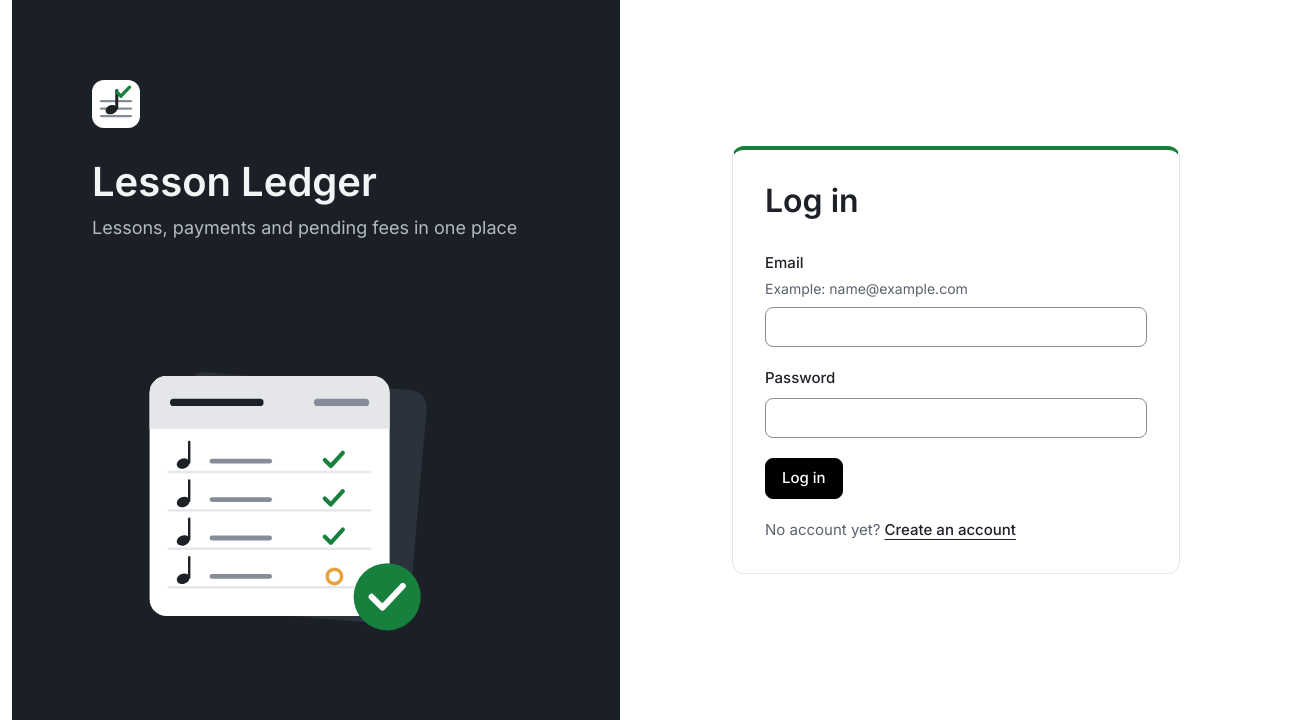
Scenario: AC-2 login page › logs in and lands on / showing the email
The image size is (1292, 720).
Check: the heading "Log in" is shown, box [765,181,859,220]
Step 1. Type "ALICE@example.com" into the field labelled "Email" → (956, 327), box [765,307,1147,347]
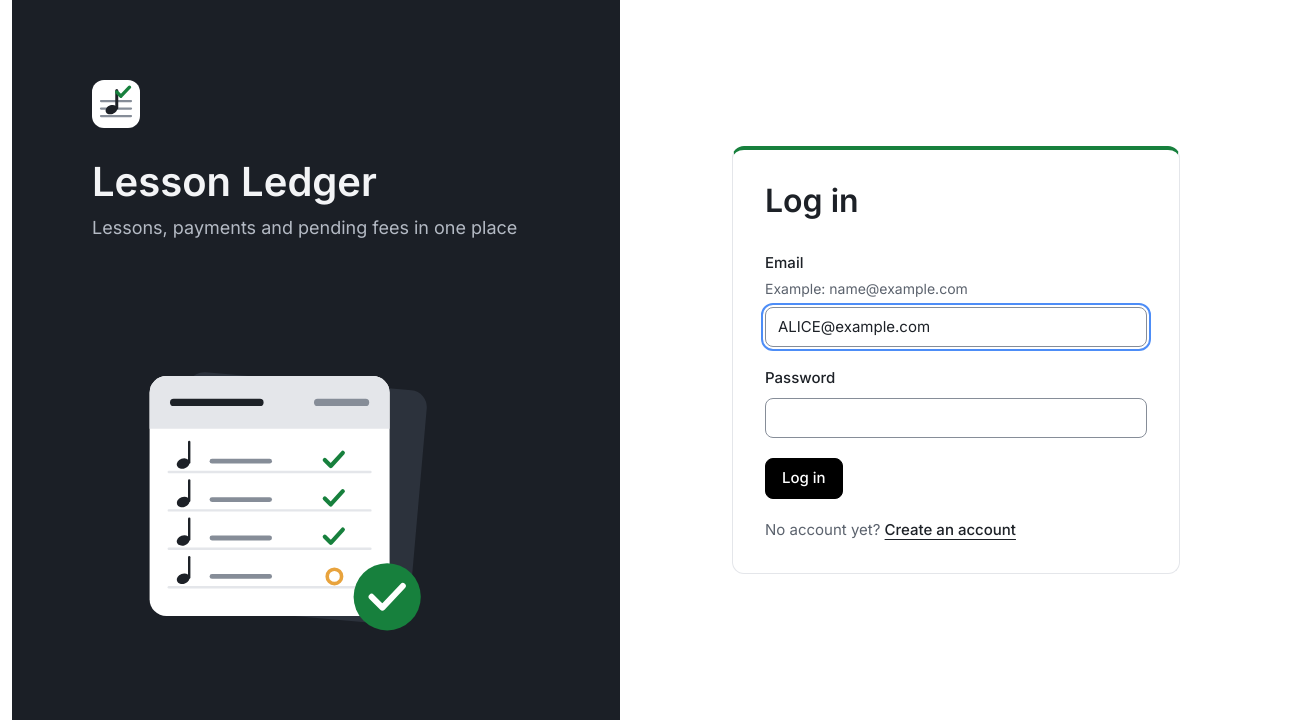
Step 2. Type "alice-ledger-pass" into the password field labelled "Password" → (956, 418), box [765,398,1147,438]
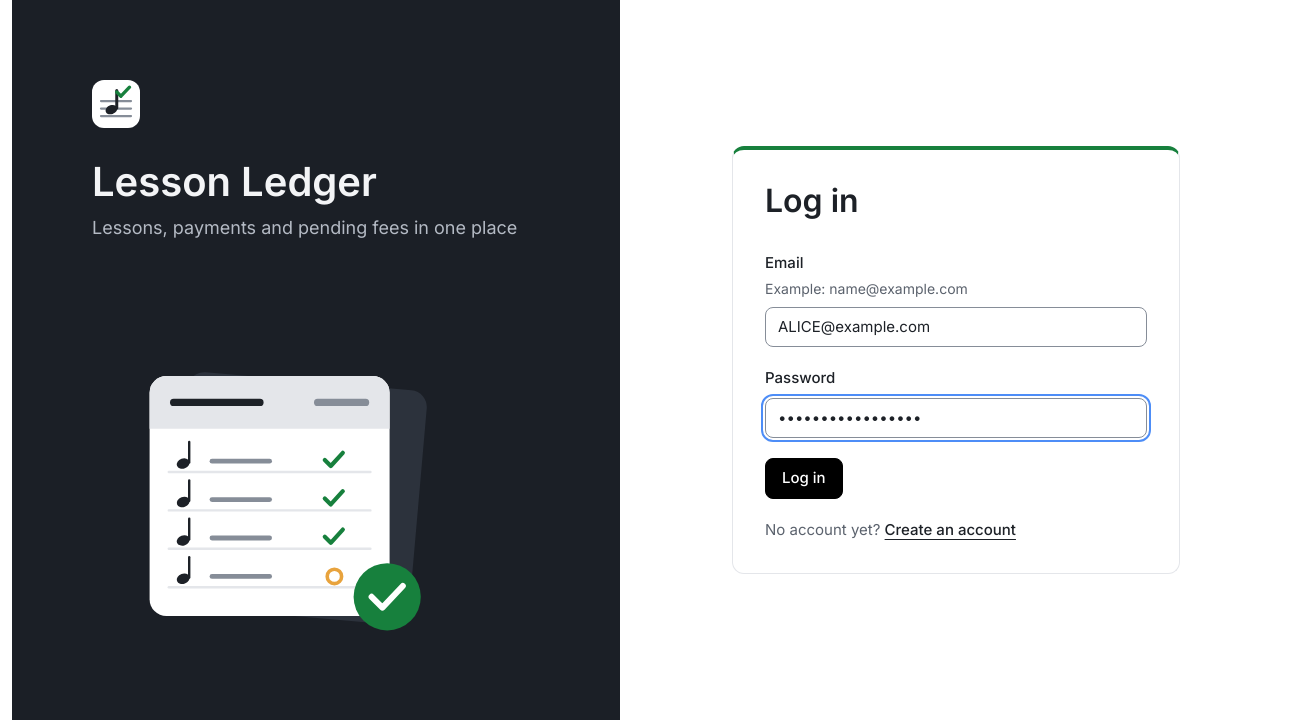
Step 3. Click the button "Log in" → (804, 479), box [765,458,843,499]
(page scrolled)
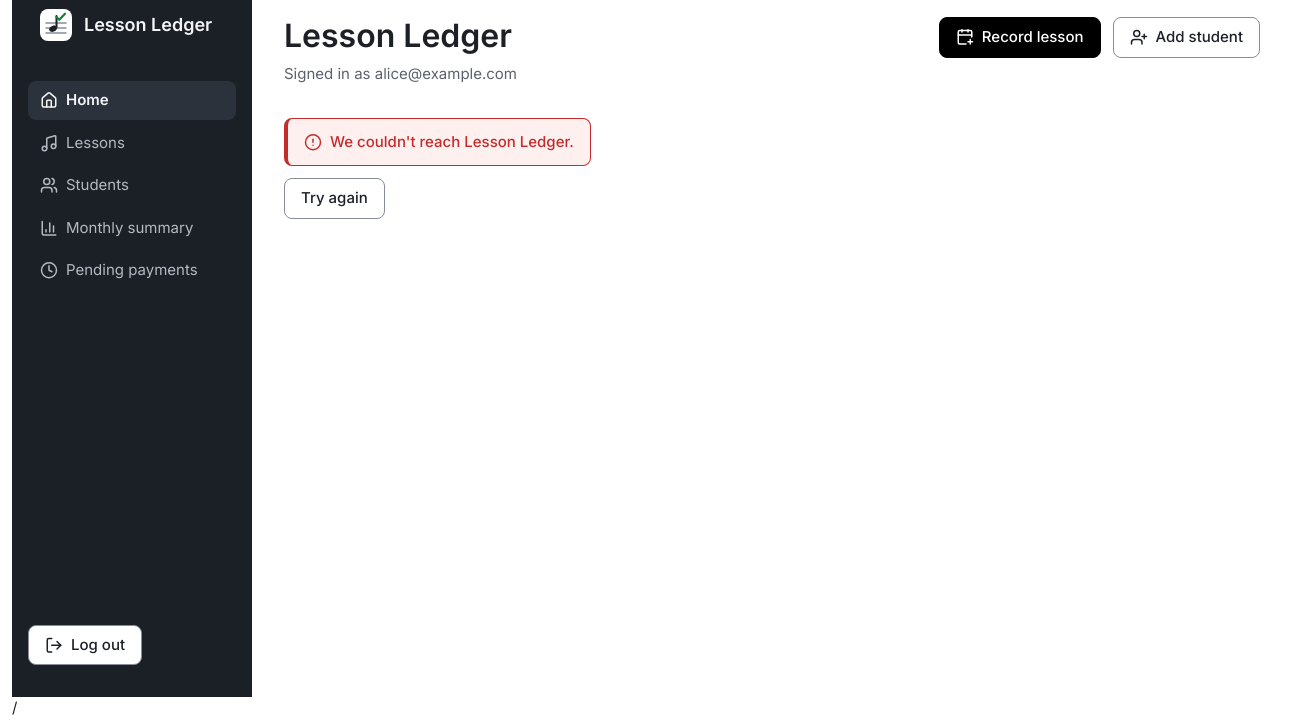
Check: the text "Signed in as alice@example.com" is shown, box [284,63,517,86]
Check: the text with test id "location" reads "/", box [12,698,17,717]
